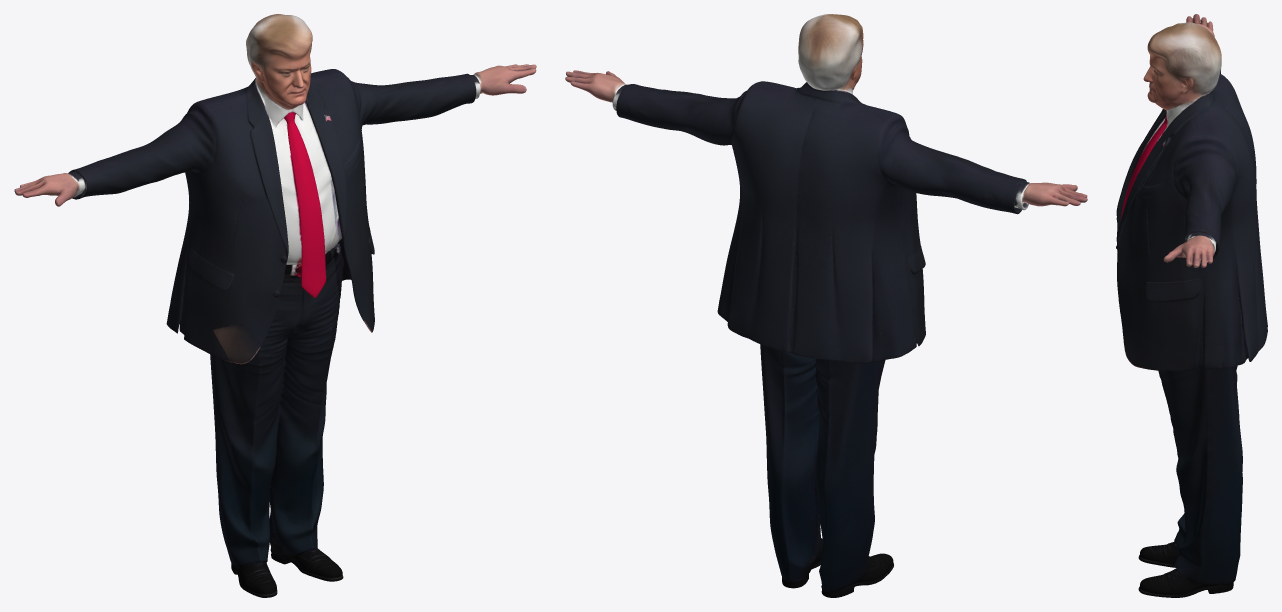
The model's file is president_trump.glb.
3 renders of one model, left to right at view 1: azimuth 30°, elevation 25°; view 2: azimuth 150°, elevation 25°; view 3: azimuth 270°, elevation 25°, orthographic.
Visible parts, largest first — view 1: Object_4, Object_6, Object_5; view 2: Object_5, Object_4, Object_6; view 3: Object_5, Object_4, Object_6.
Part boxes in pixels (x1,y1,x2,y2): Object_4: (34,14,521,588); Object_6: (22,15,535,597); Object_5: (14,14,536,574); Object_5: (565,22,1087,597); Object_4: (580,14,1073,597); Object_6: (578,14,1087,597); Object_5: (1153,14,1261,593); Object_4: (1116,21,1266,596); Object_6: (1137,16,1267,597).
Size of the model in its own units: 1.85 by 1.9 by 0.4736.
1 material, 1 textured.
